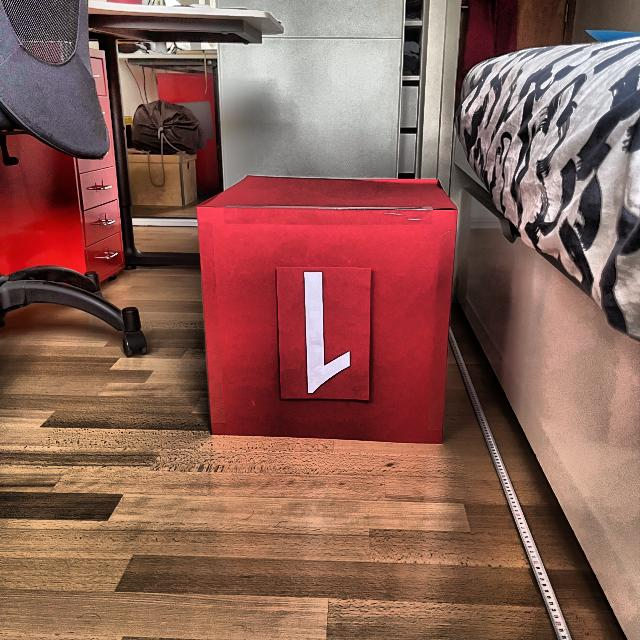one: (300, 267, 353, 397)
red box: (198, 180, 447, 436)
